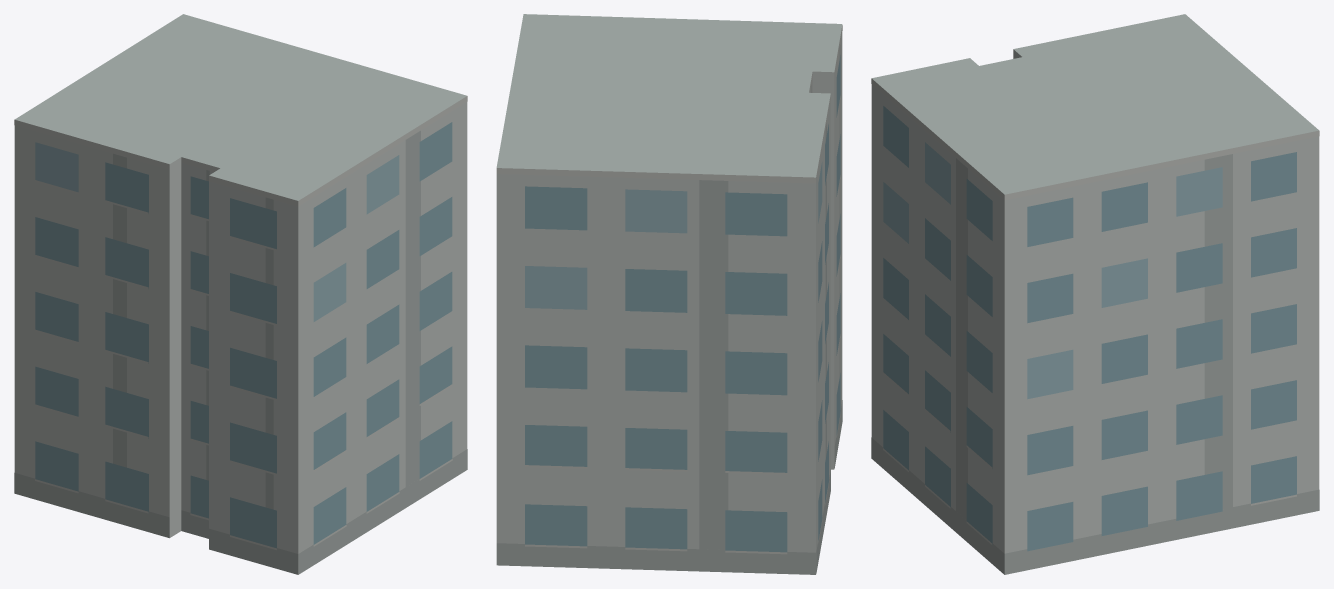
File: survey-upis-32906968.glb
The picture shows the model from 3 angles, left to right: view 1: azimuth 30°, elevation 25°; view 2: azimuth 150°, elevation 25°; view 3: azimuth 270°, elevation 25°; orthographic projection. The views are drawn at different scales.
Parts seen in each view (by area): view 1: survey-upis-32906968.tmp; view 2: survey-upis-32906968.tmp; view 3: survey-upis-32906968.tmp.
Part boxes in pixels (x1=…): survey-upis-32906968.tmp: x1=14, y1=14, x2=467, y2=574; survey-upis-32906968.tmp: x1=496, y1=14, x2=842, y2=574; survey-upis-32906968.tmp: x1=871, y1=14, x2=1319, y2=574.
Bounding box in the file's own units: 16.31 × 16 × 17.09.
